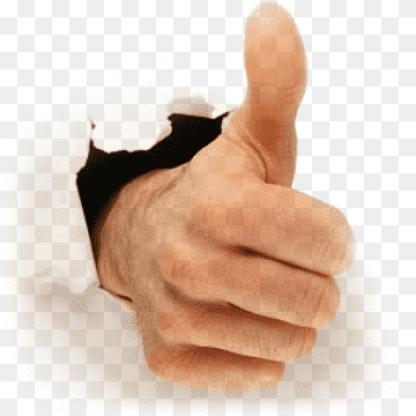Thumbs-Up: (96, 0, 352, 388)
